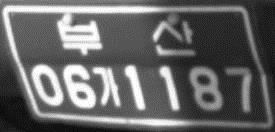0: (30, 61, 64, 107)
1: (121, 63, 147, 112), (157, 63, 182, 113)
6: (61, 63, 97, 110)
7: (222, 64, 254, 117)
8: (188, 65, 223, 111)
가: (91, 63, 123, 110)
부산_D: (55, 18, 196, 58)
